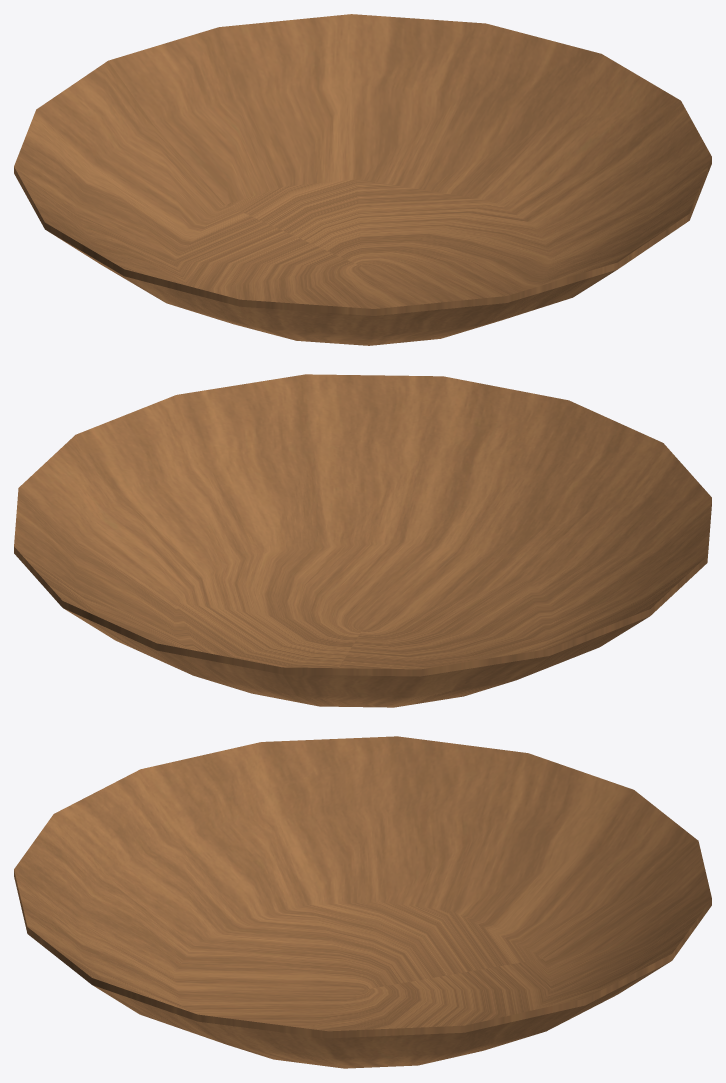
Rendered from Plato_V1.fbx.
3 renders of one model, top to bottom at view 1: azimuth 30°, elevation 25°; view 2: azimuth 150°, elevation 25°; view 3: azimuth 270°, elevation 25°, orthographic.
Parts seen in each view (by area): view 1: Platos_V1; view 2: Platos_V1; view 3: Platos_V1.
Boxes of the visible parts, bbox=[...] form: Platos_V1: bbox=[14, 14, 711, 345]; Platos_V1: bbox=[14, 374, 711, 707]; Platos_V1: bbox=[14, 736, 711, 1068].
Size of the model in its own units: 140 by 25.07 by 140.
Materials: 1 (1 with a texture image).
